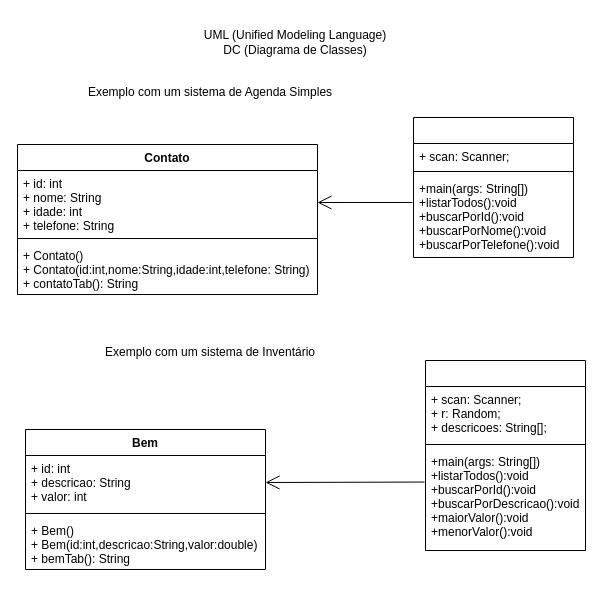
The diagram is 603 pixels wide and 589 high, and some of its shapes have lost their labels. The shapes that lost their labels are listed below. From the top down, each one's box as (x1, y1, x2, y2) in pixels, then its label:
(412, 116, 574, 258): Agenda
(424, 360, 586, 550): Inventario
